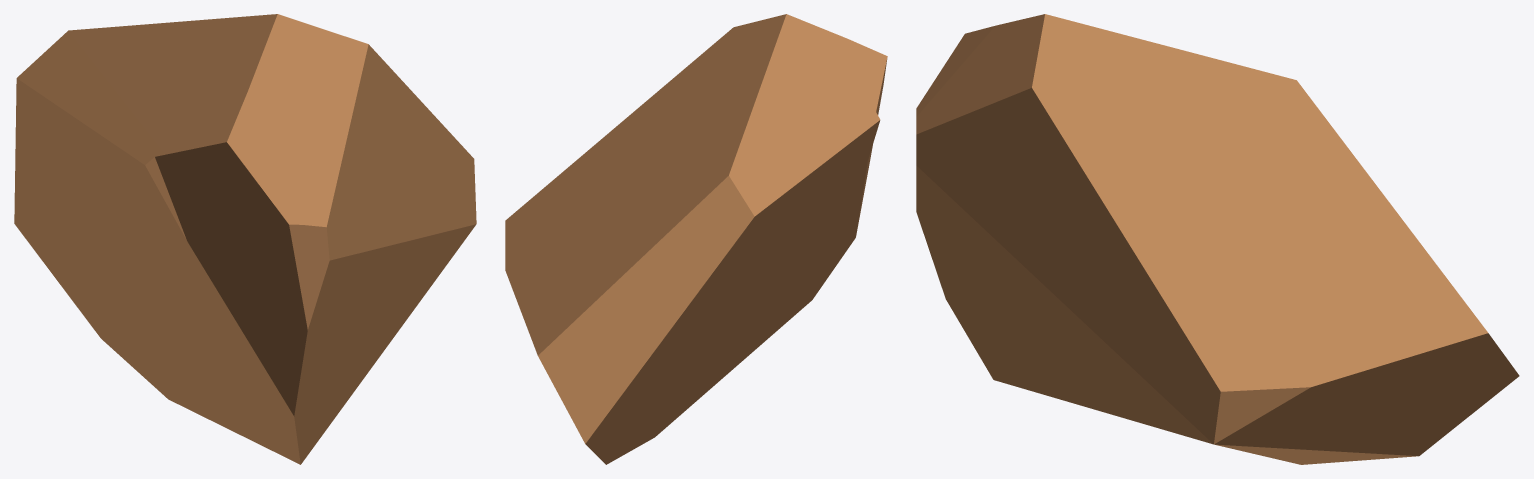
File: asteroid_4.glb
3 renders of one model, left to right at view 1: azimuth 30°, elevation 25°; view 2: azimuth 150°, elevation 25°; view 3: azimuth 270°, elevation 25°, orthographic. The views are drawn at different scales.
Parts seen in each view (by area): view 1: Asteriod_cell_4; view 2: Asteriod_cell_4; view 3: Asteriod_cell_4.
Boxes of the visible parts, box(x1,y1,x2,y2) form: Asteriod_cell_4: box(14, 14, 476, 464); Asteriod_cell_4: box(505, 14, 887, 464); Asteriod_cell_4: box(916, 14, 1519, 464).
Bounding box in the file's own units: 1.1 × 1.23 × 1.54.
